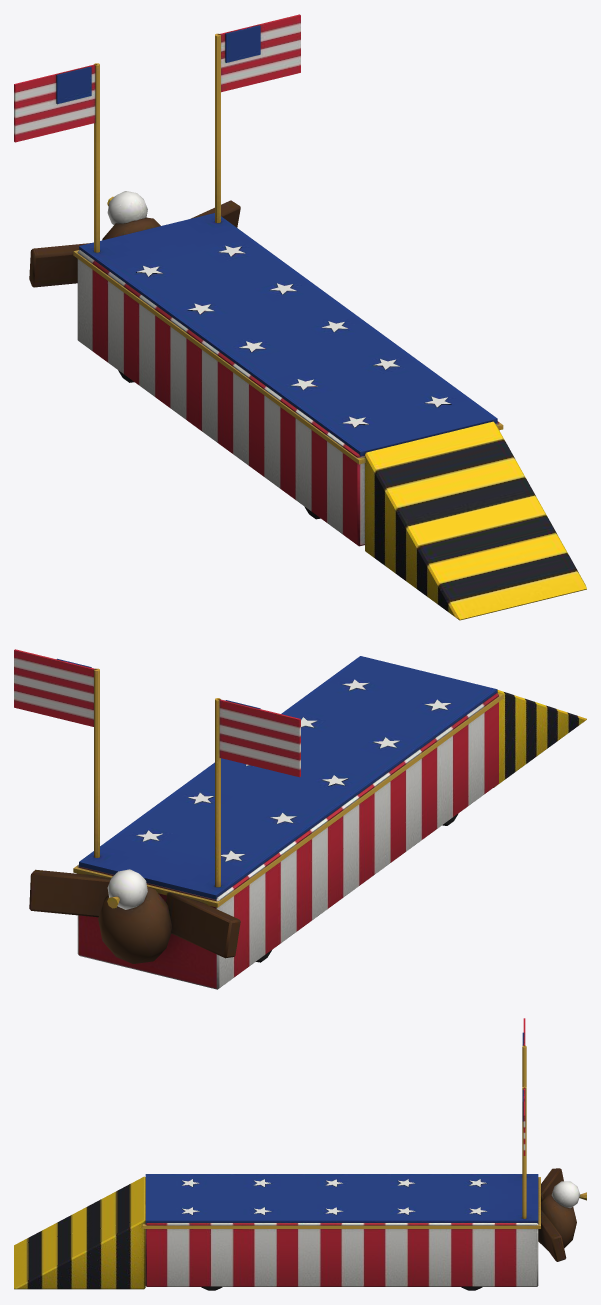
Rendered from carroza_desfile.glb.
3 views of the same model, one above another, from view 1: azimuth 30°, elevation 25°; view 2: azimuth 150°, elevation 25°; view 3: azimuth 270°, elevation 25° (orthographic). The views are drawn at different scales.
Parts seen in each view (by area): view 1: carroza_desfile; view 2: carroza_desfile; view 3: carroza_desfile.
Boxes of the visible parts, x1,y1,x2,y2 form: carroza_desfile: (14,14,586,620); carroza_desfile: (14,649,586,989); carroza_desfile: (14,1018,586,1290).
Bounding box in the file's own units: 4.16 × 4 × 10.36.
1 material, 1 textured.
